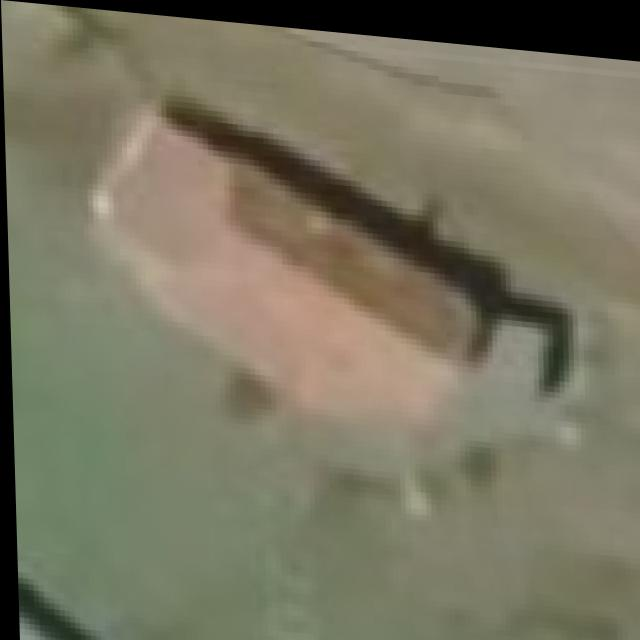Batiment: (94, 112, 487, 419)
